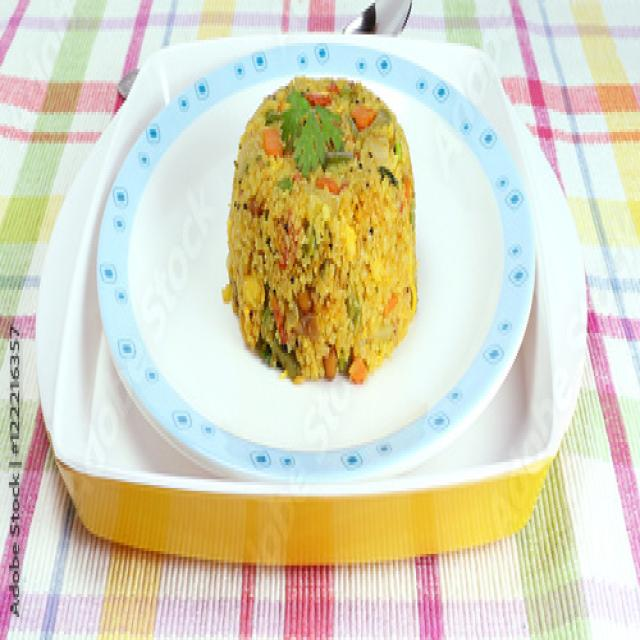UPMA: (223, 77, 416, 382)
